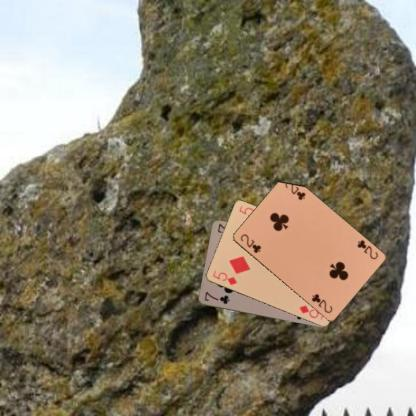2c: (354, 237, 379, 260), (238, 231, 262, 254)
5d: (210, 268, 238, 287)
7c: (202, 290, 231, 305)
